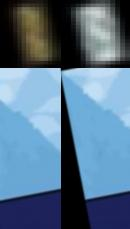ropeT: (61, 0, 130, 68), (0, 0, 61, 68)
